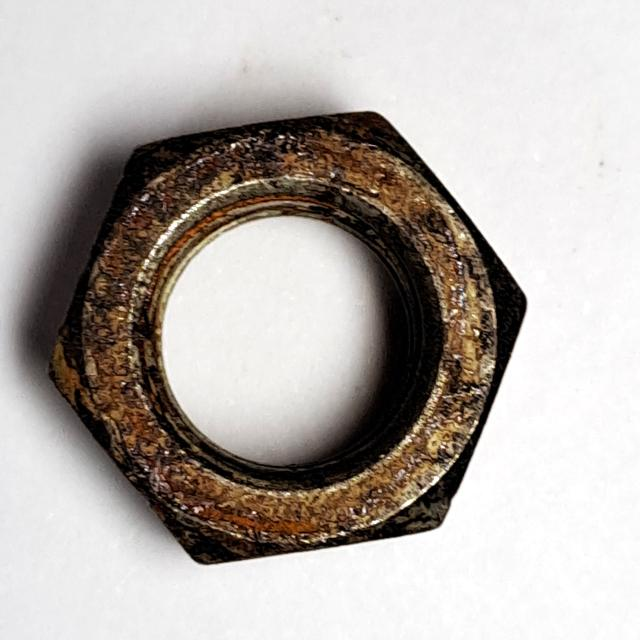Rust: (38, 96, 539, 575)
